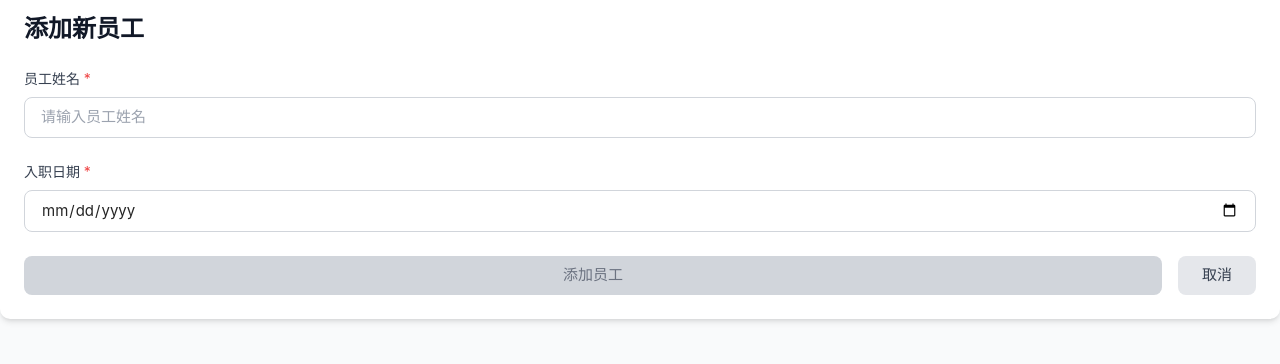
EmployeeForm.vue › 取消操作 › 点击取消按钮应该清空错误信息
Submit the form, box x1=24 y1=69 x2=1256 y2=294
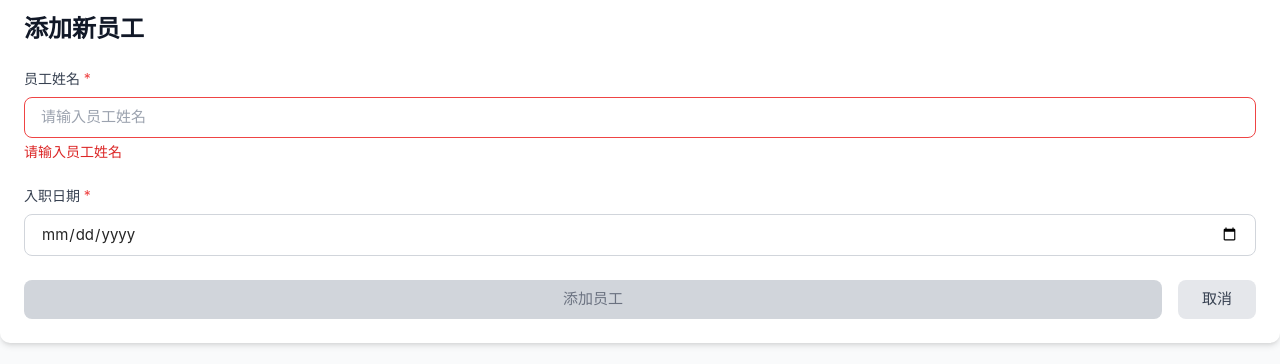
expect the text "请输入员工姓名" is shown: met, box x1=24 y1=142 x2=122 y2=160
Click the button "取消": (1217, 299) x1=1178 y1=280 x2=1256 y2=318
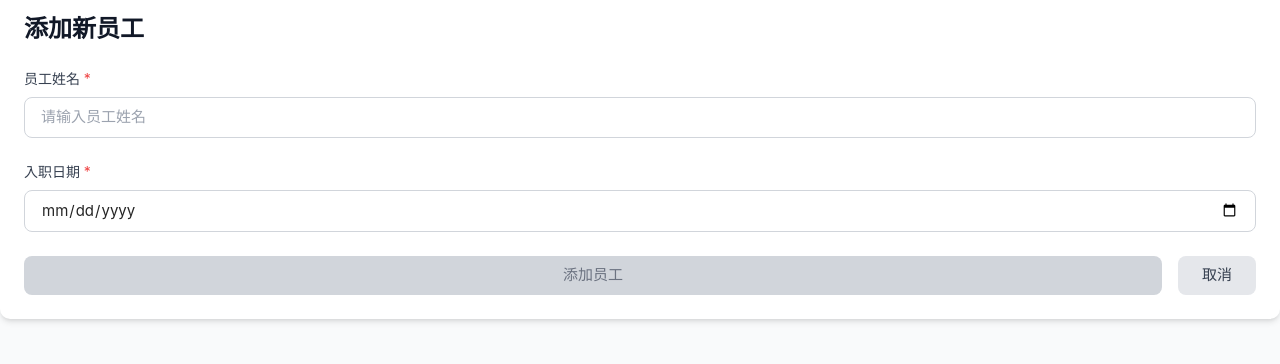
expect the text "请输入员工姓名" is gone: met
